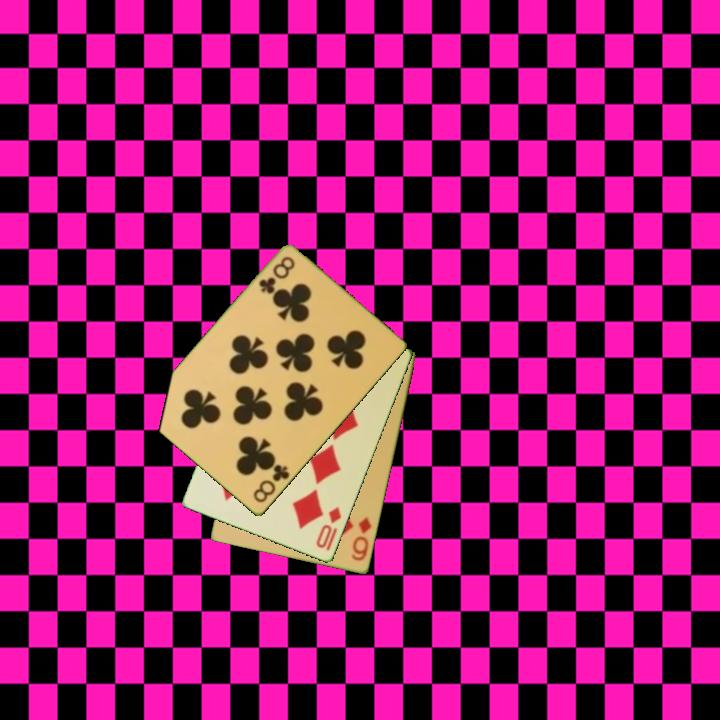10d: (313, 503, 345, 554)
6d: (348, 514, 375, 564)
8c: (255, 253, 298, 297), (250, 461, 292, 506)
